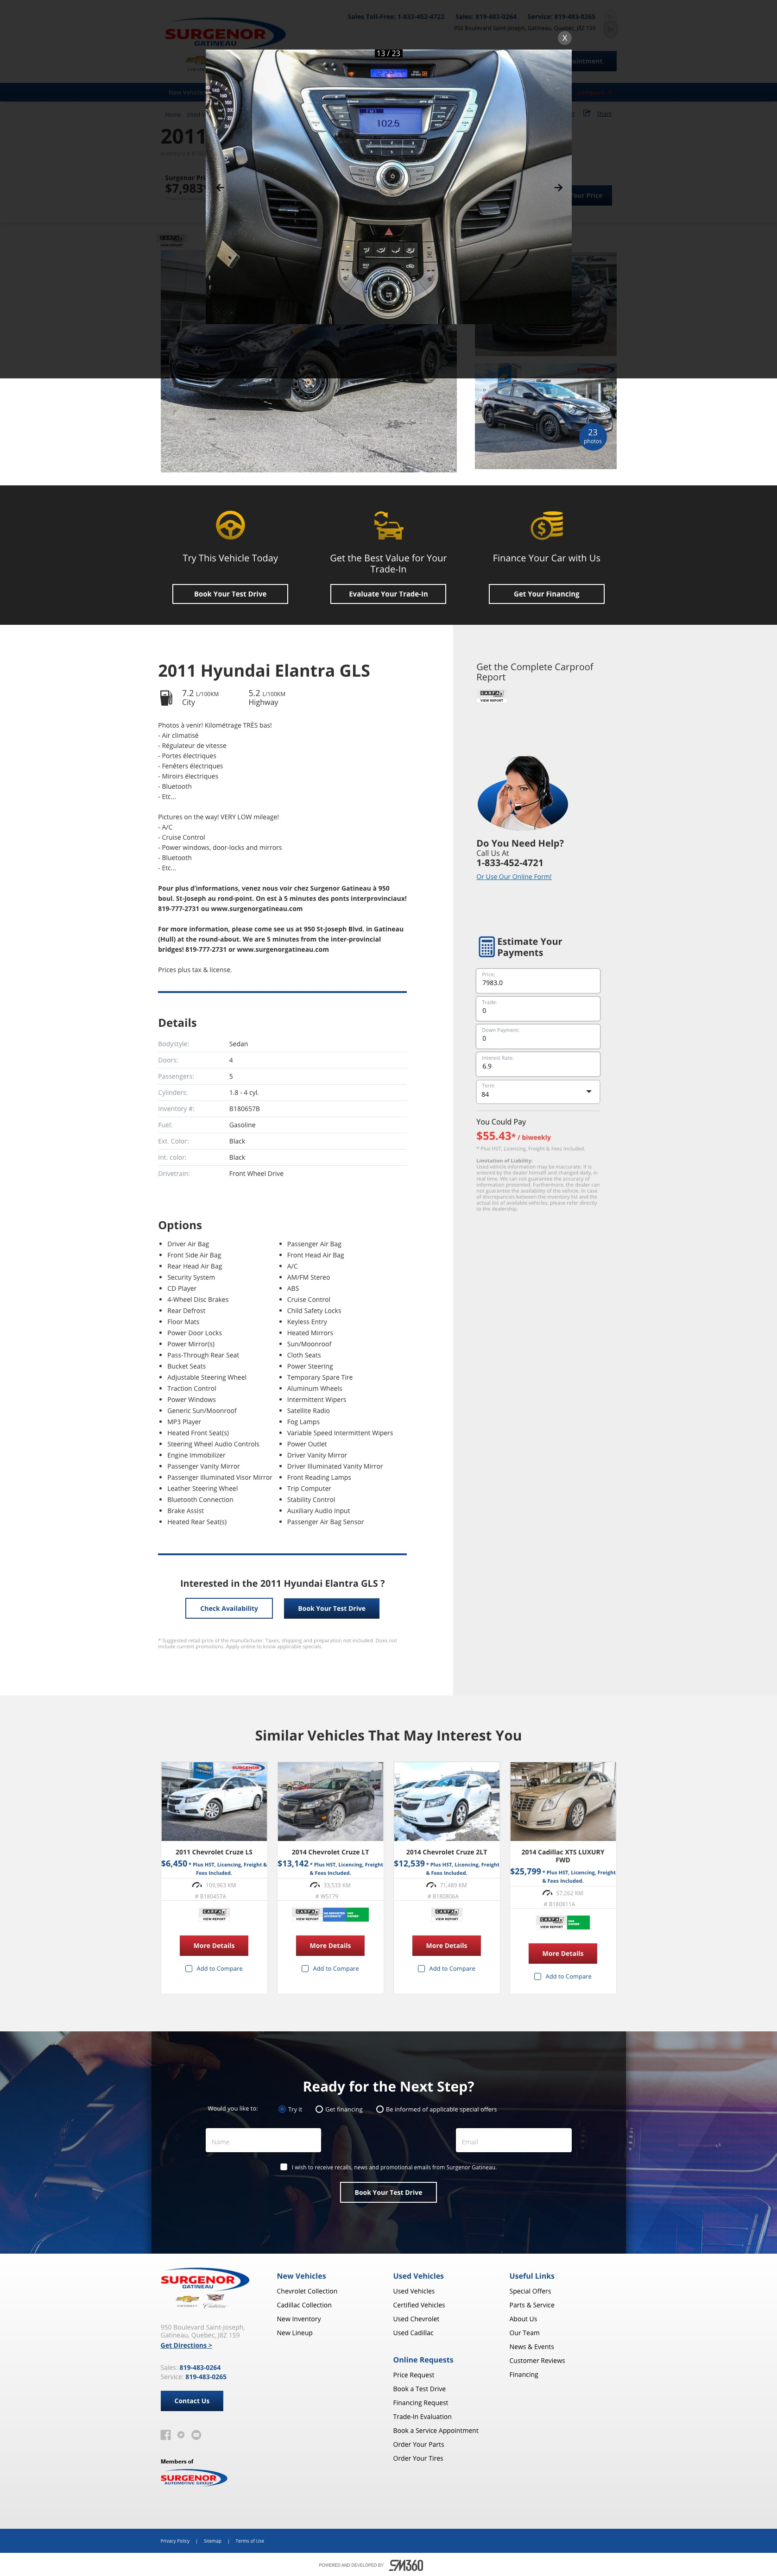car: (578, 422, 608, 452)
